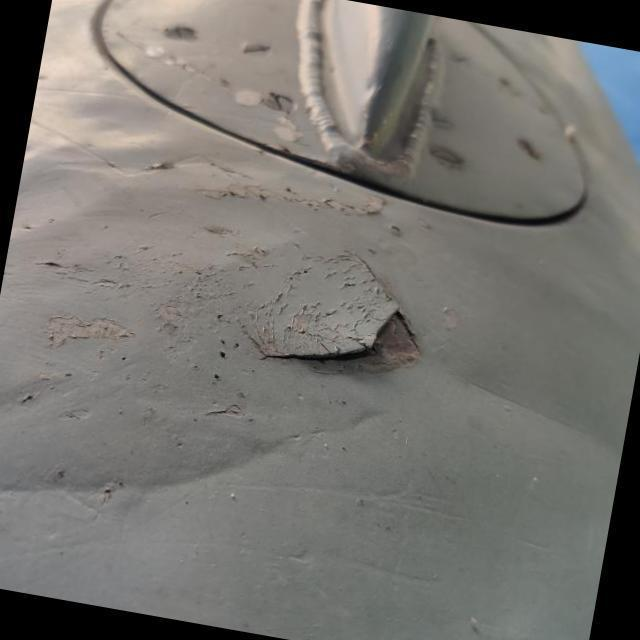Rupture: (235, 226, 457, 414)
